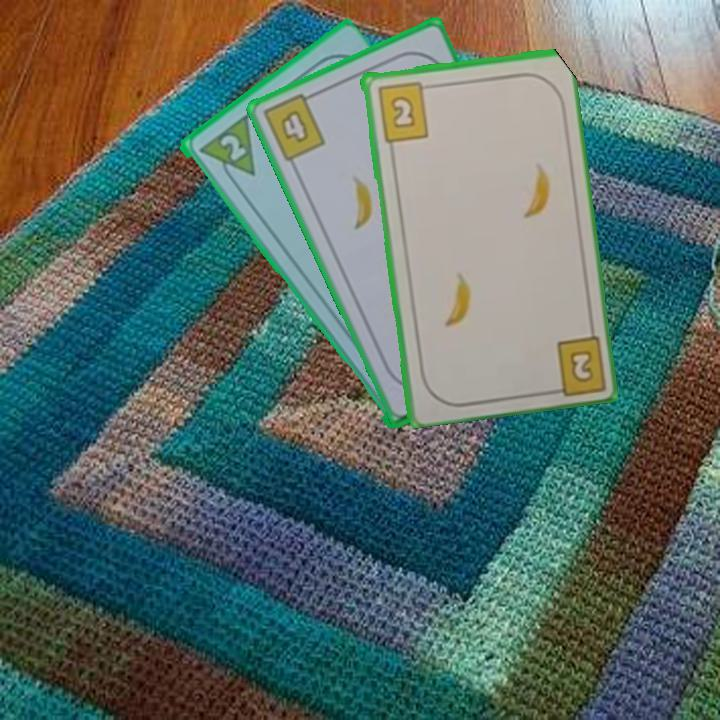2b: (542, 329, 606, 397), (373, 78, 435, 144)
2p: (215, 130, 249, 164)
4b: (258, 88, 328, 165)
